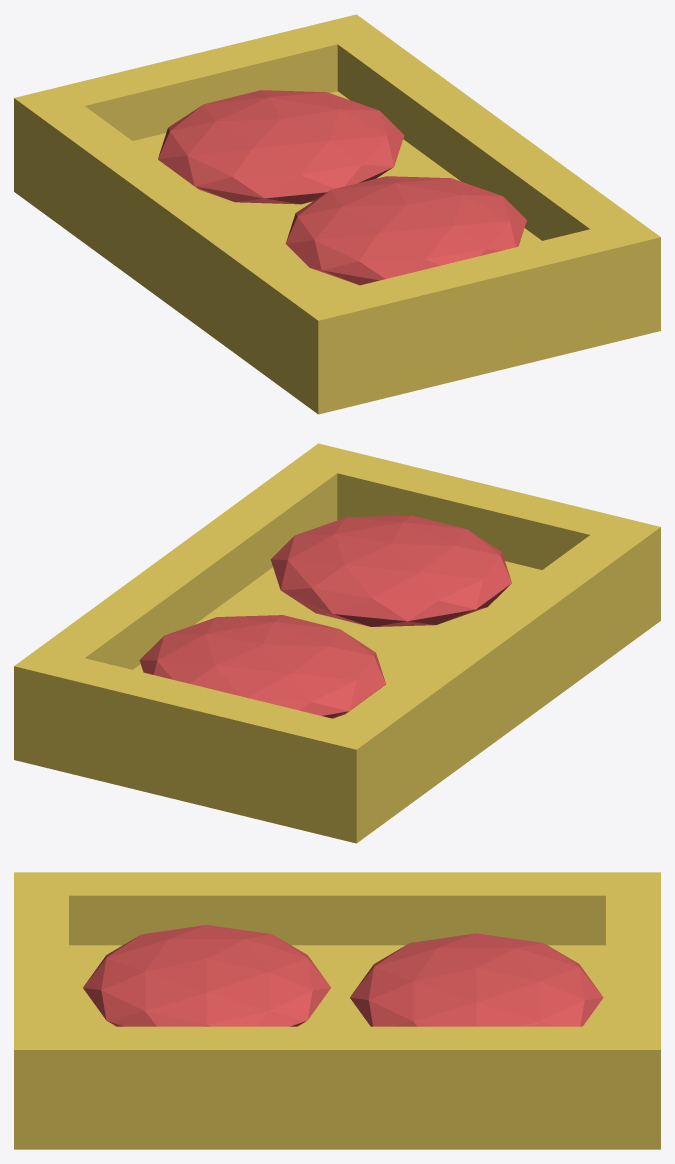
The model's file is liha 5.fbx.
3 renders of one model, top to bottom at view 1: azimuth 30°, elevation 25°; view 2: azimuth 150°, elevation 25°; view 3: azimuth 270°, elevation 25°, orthographic. The views are drawn at different scales.
Parts seen in each view (by area): view 1: Cube, Icosphere, Icosphere.001; view 2: Cube, Icosphere.001, Icosphere; view 3: Cube, Icosphere.001, Icosphere.
Boxes of the visible parts, x1,y1,x2,y2 form: Cube: [14, 14, 660, 414]; Icosphere: [158, 90, 404, 204]; Icosphere.001: [285, 176, 526, 285]; Cube: [14, 443, 660, 843]; Icosphere.001: [270, 515, 511, 626]; Icosphere: [139, 615, 385, 718]; Cube: [14, 872, 660, 1149]; Icosphere.001: [83, 925, 330, 1026]; Icosphere: [350, 933, 603, 1026].
Size of the model in its own units: 130 by 36.16 by 200.
